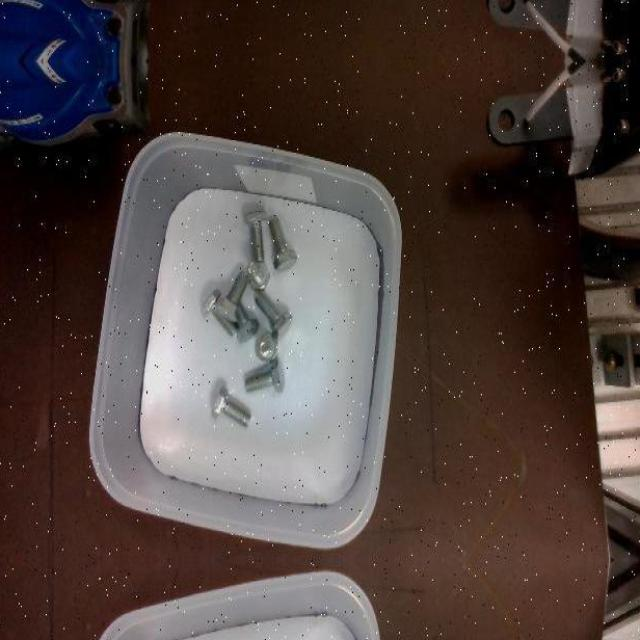screw: (256, 291, 293, 339), (211, 384, 251, 428), (218, 270, 250, 322), (269, 218, 298, 271), (245, 357, 285, 392), (244, 210, 269, 261), (255, 330, 278, 366), (248, 261, 271, 290)
